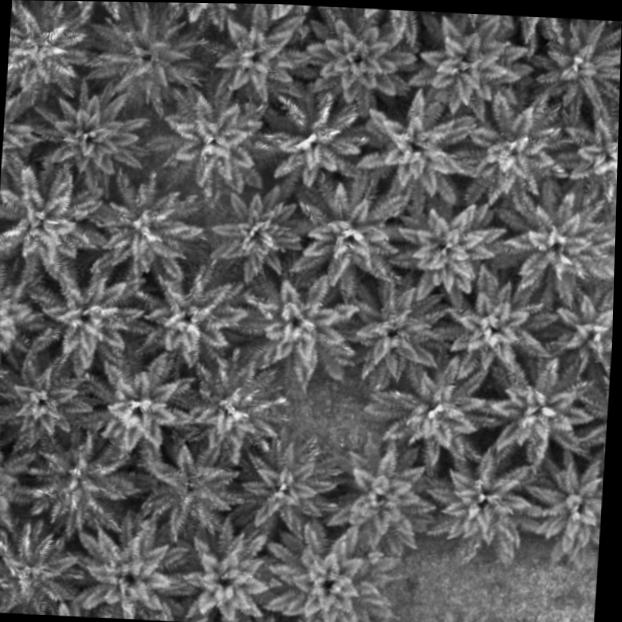oilpalm: (143, 86, 269, 201), (78, 344, 209, 454), (390, 182, 501, 307), (422, 449, 535, 568), (74, 1, 204, 104), (66, 516, 189, 622), (453, 95, 561, 213), (85, 181, 210, 282), (241, 274, 350, 386), (203, 182, 316, 290), (288, 4, 411, 103), (271, 525, 394, 622), (354, 94, 463, 200), (498, 188, 600, 301), (301, 177, 402, 291), (40, 86, 146, 190), (141, 264, 244, 367), (411, 10, 522, 103), (338, 284, 435, 390), (0, 168, 95, 276), (437, 281, 535, 385), (255, 90, 357, 189), (186, 359, 291, 455), (34, 265, 139, 361), (334, 439, 428, 544), (485, 361, 581, 463), (137, 445, 247, 533), (202, 3, 301, 97), (26, 444, 131, 532), (524, 15, 622, 109), (0, 347, 93, 446), (239, 435, 334, 530), (185, 524, 277, 622), (520, 456, 604, 562), (385, 362, 473, 462), (0, 518, 82, 616), (4, 0, 79, 95), (542, 284, 614, 379), (570, 112, 619, 191), (0, 269, 33, 368)
